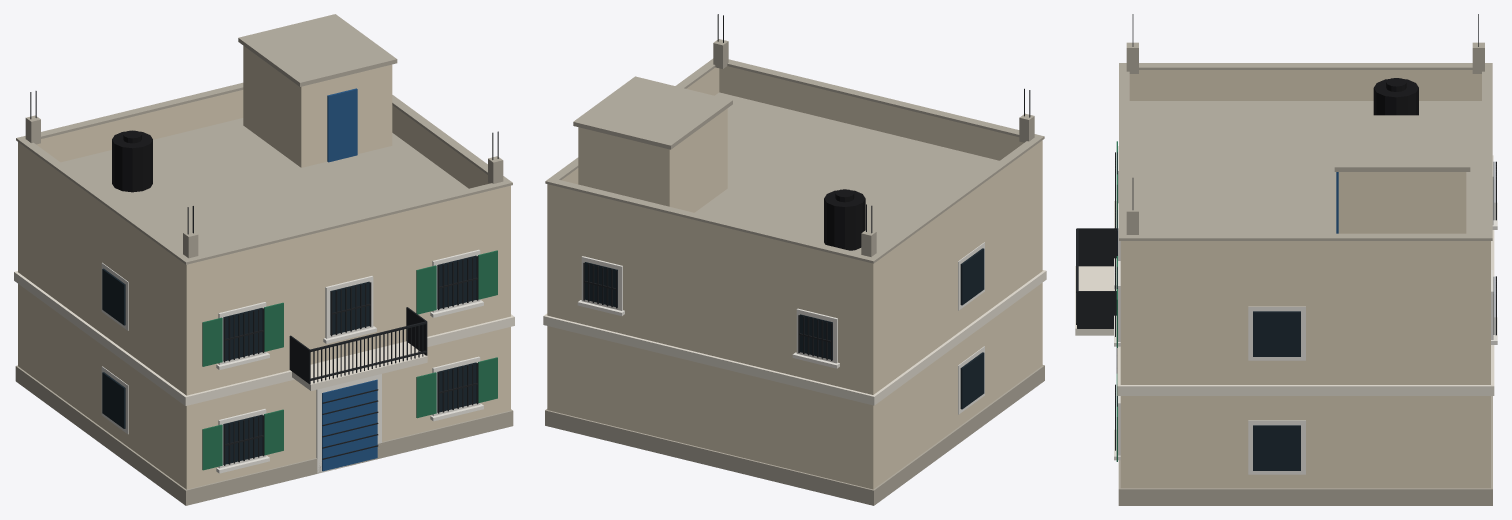
File: maison_r1.glb
3 renders of one model, left to right at view 1: azimuth 30°, elevation 25°; view 2: azimuth 150°, elevation 25°; view 3: azimuth 270°, elevation 25°, orthographic. The views are drawn at different scales.
Parts seen in each view (by area): view 1: maison_r1; view 2: maison_r1; view 3: maison_r1.
Boxes of the visible parts, x1,y1,x2,y2 form: maison_r1: [14, 14, 514, 505]; maison_r1: [543, 14, 1046, 505]; maison_r1: [1075, 14, 1497, 505].
Size of the model in its own units: 10.16 by 8.82 by 10.26.
